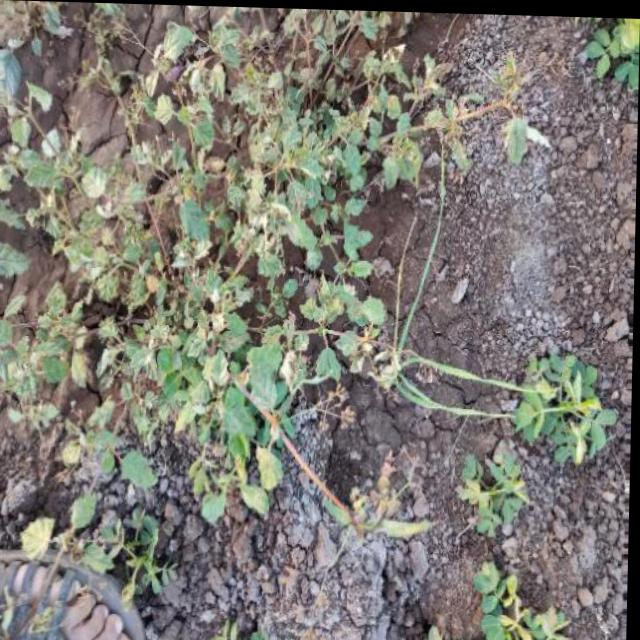weed: (0, 1, 480, 541), (506, 348, 617, 468)
